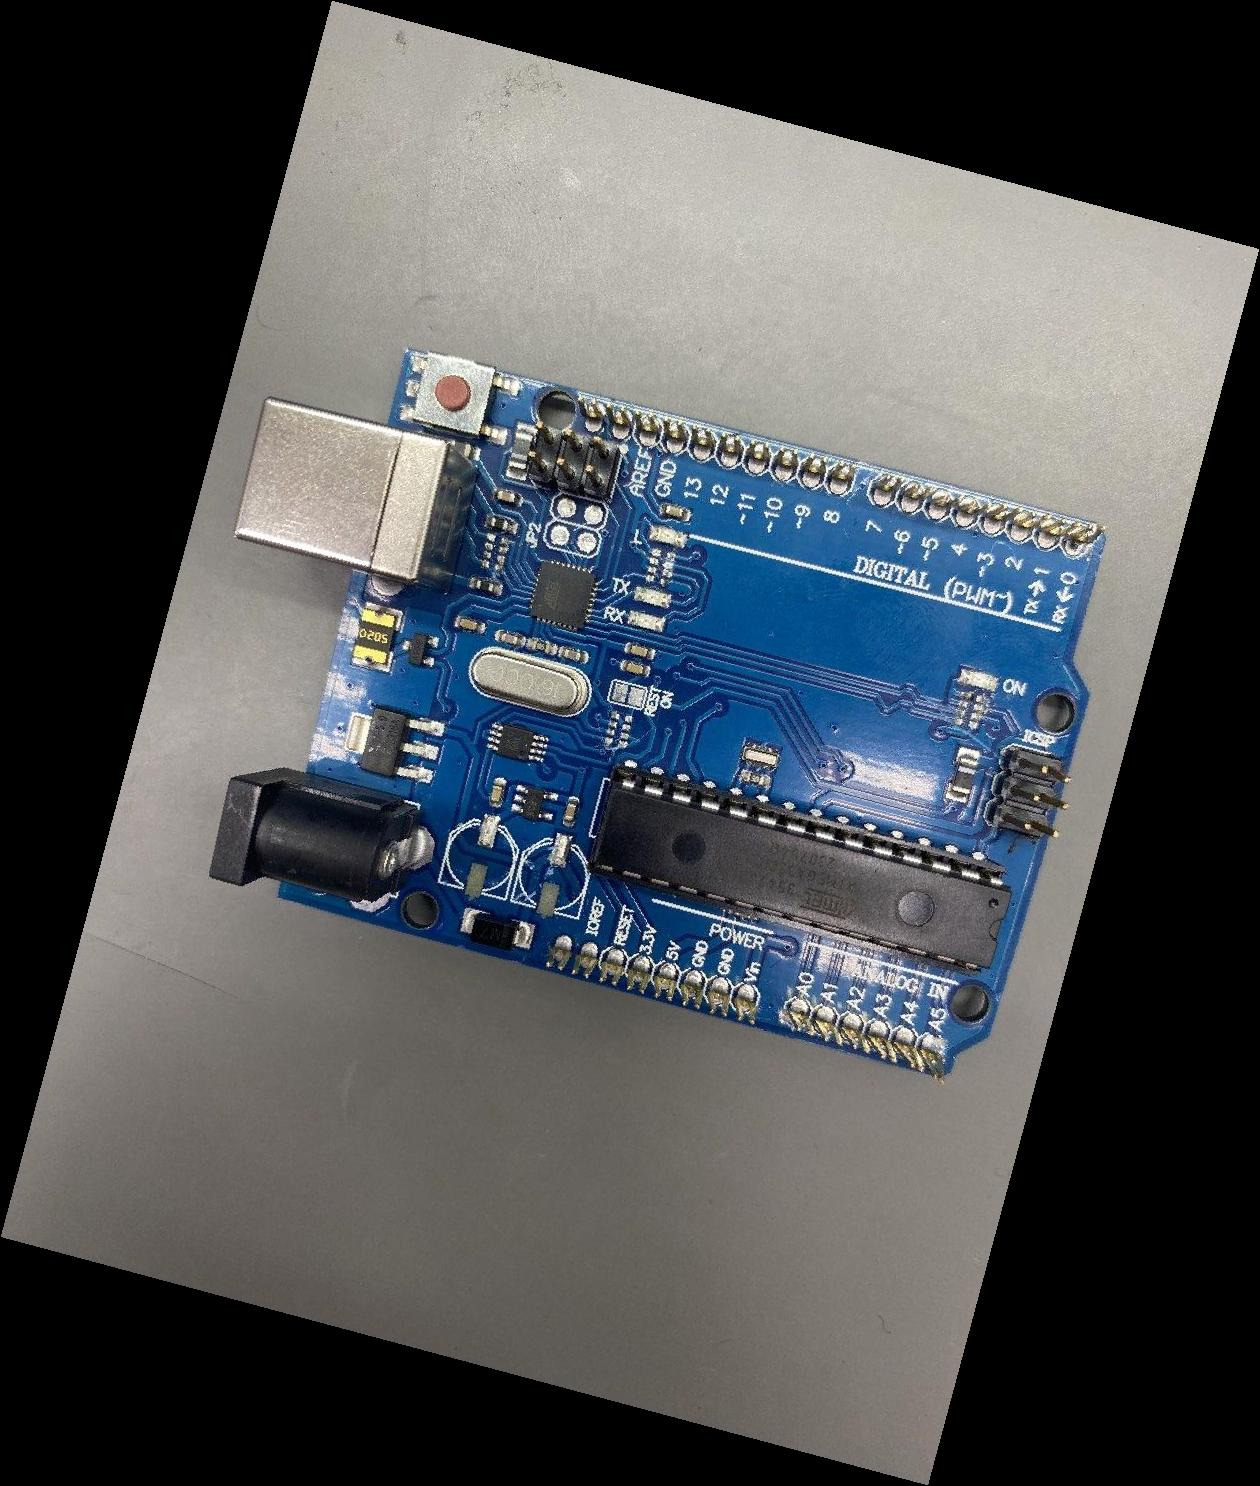ATmega328 chip: (589, 764, 1011, 976)
Arduino board: (209, 345, 1106, 1086)
USB: (230, 397, 481, 595)
